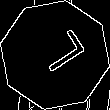L_SW: (25, 28, 85, 82)
